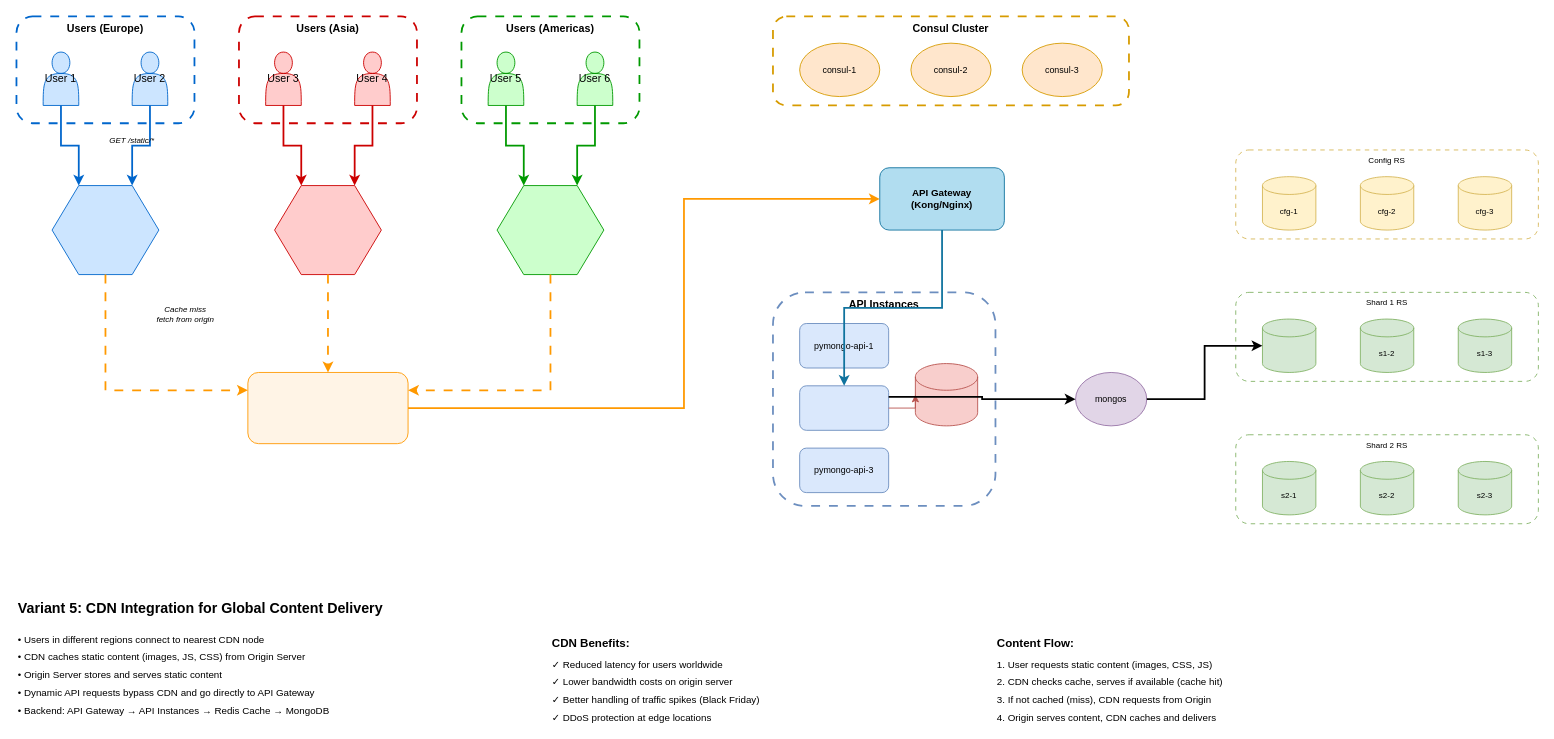
Image size: 1554x739. Some labels were removed from this diagram. Here are the shapes that lost their labels. From the top down, the centre of each, then its label:
At point (105, 230): "CDN Node Europe (CloudFlare/ Akamai)".
At point (327, 230): "CDN Node Asia (CloudFlare/ Akamai)".
At point (550, 230): "CDN Node Americas (CloudFlare/ Akamai)".
At point (1289, 345): "s1-1".
At point (327, 408): "Origin Server (Static Content) Nginx/Apache".
At point (844, 407): "pymongo-api-2".
At point (946, 394): "redis".
